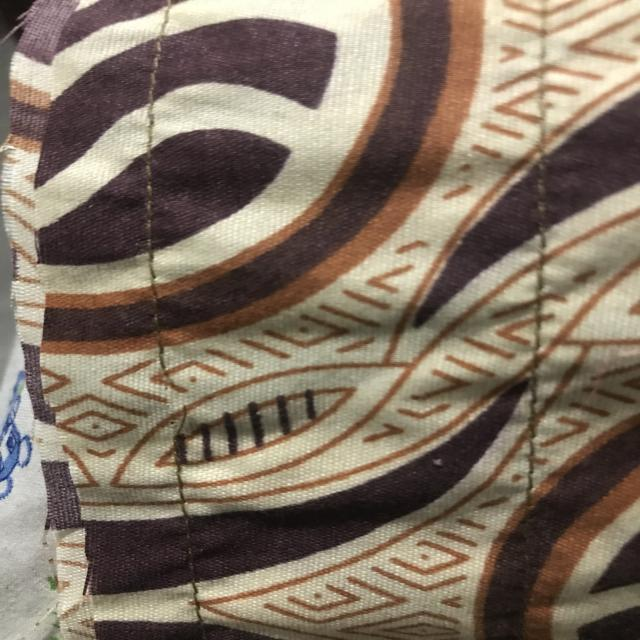broken: (134, 342, 202, 456)
good: (167, 480, 204, 522)
